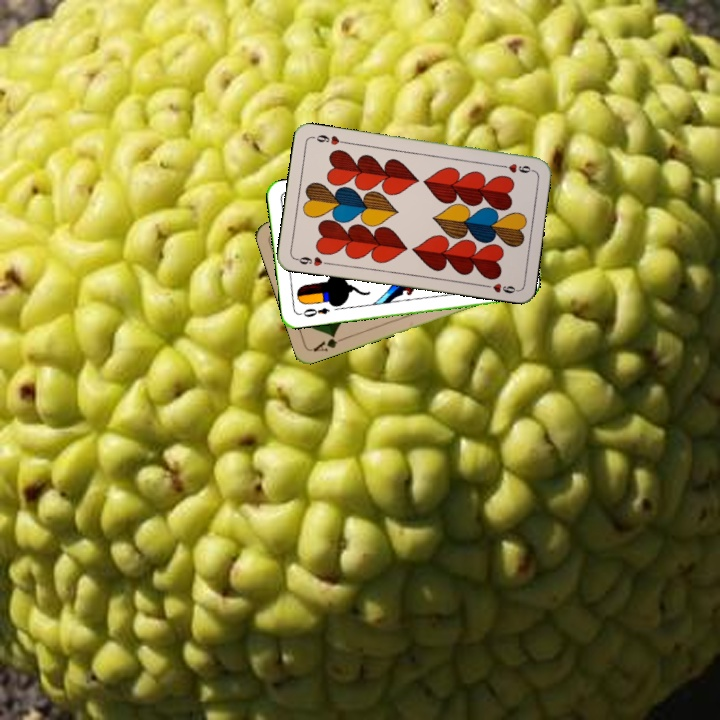EO: (296, 304, 332, 320)
GA: (309, 330, 348, 354)
H9: (495, 159, 536, 176), (292, 253, 332, 269)
